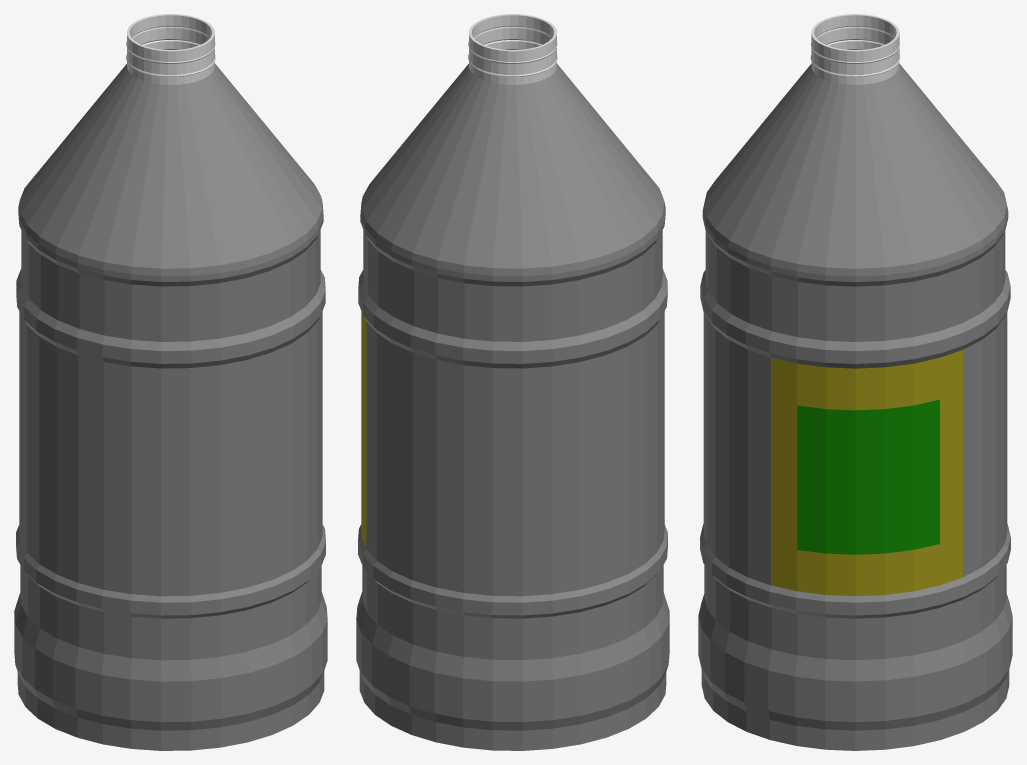
The model's file is venigar.fbx.
The picture shows the model from 3 angles, left to right: view 1: azimuth 30°, elevation 25°; view 2: azimuth 150°, elevation 25°; view 3: azimuth 270°, elevation 25°; orthographic projection.
Visible parts, largest first — view 1: Cylinder.002, Cylinder.003, Cylinder.004, Cylinder.001; view 2: Cylinder.002, Cylinder.003, Cylinder.004, Cylinder.001, Cylinder.005; view 3: Cylinder.002, Cylinder.004, Cylinder.003, Cylinder.005, Cylinder.006, Cylinder.001.
Part boxes in pixels (x1,y1,x2,y2): Cylinder.002: (16, 64, 325, 368); Cylinder.003: (19, 311, 322, 596); Cylinder.004: (14, 525, 327, 750); Cylinder.001: (126, 14, 215, 84); Cylinder.002: (358, 64, 667, 368); Cylinder.003: (366, 311, 664, 596); Cylinder.004: (356, 525, 669, 750); Cylinder.001: (468, 14, 557, 84); Cylinder.005: (361, 311, 366, 548); Cylinder.002: (700, 63, 1010, 368); Cylinder.004: (698, 524, 1012, 750); Cylinder.003: (703, 312, 1007, 585); Cylinder.005: (771, 350, 962, 596); Cylinder.006: (797, 399, 939, 554); Cylinder.001: (810, 14, 900, 84).
Size of the model in its own units: 52.66 by 121 by 52.66.
